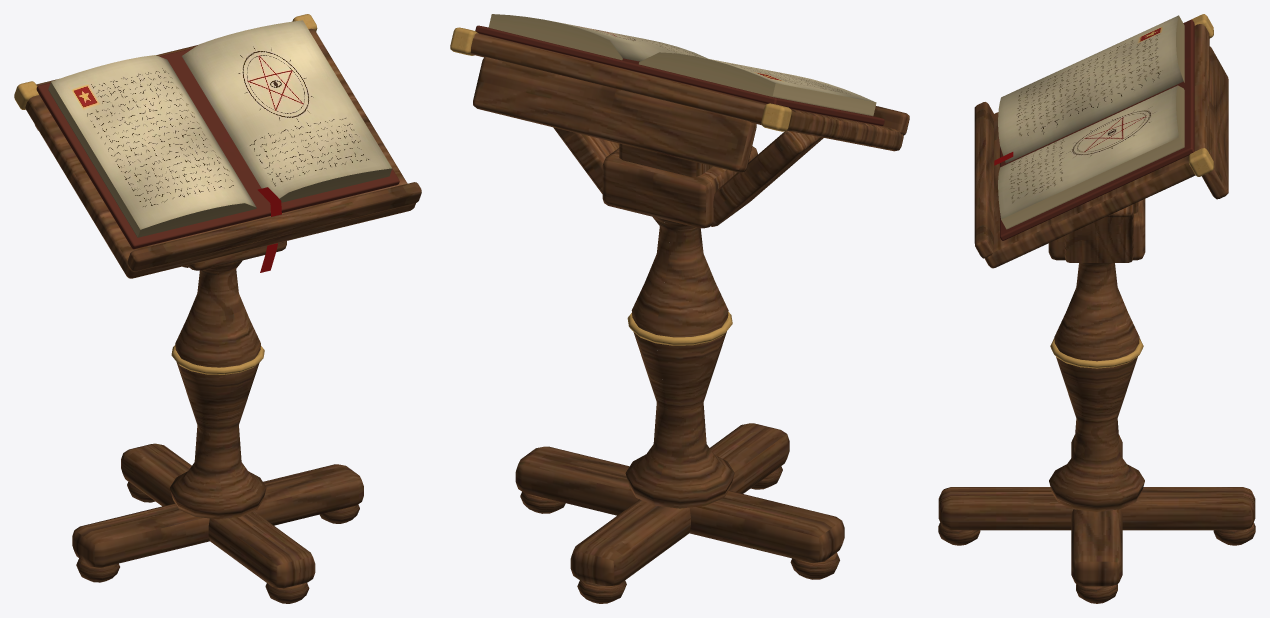
File: prop_lectern.glb
The picture shows the model from 3 angles, left to right: view 1: azimuth 30°, elevation 25°; view 2: azimuth 150°, elevation 25°; view 3: azimuth 270°, elevation 25°; orthographic projection. The views are drawn at different scales.
Parts seen in each view (by area): view 1: prop; view 2: prop; view 3: prop.
Boxes of the visible parts, x1=… form: prop: x1=14, y1=14, x2=421, y2=603; prop: x1=450, y1=14, x2=909, y2=603; prop: x1=938, y1=14, x2=1255, y2=603.
Size of the model in its own units: 0.49 by 0.7564 by 0.4609.
Materials: 5 (4 with a texture image).
